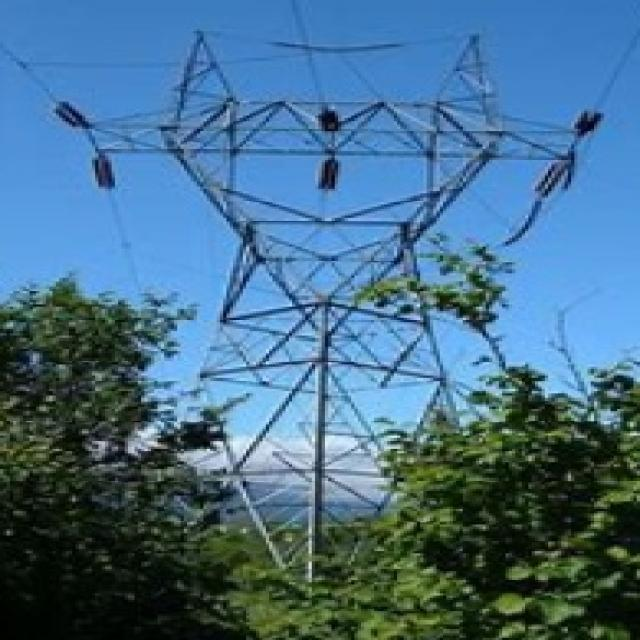utility poles: (344, 233, 595, 460), (77, 294, 280, 506)
